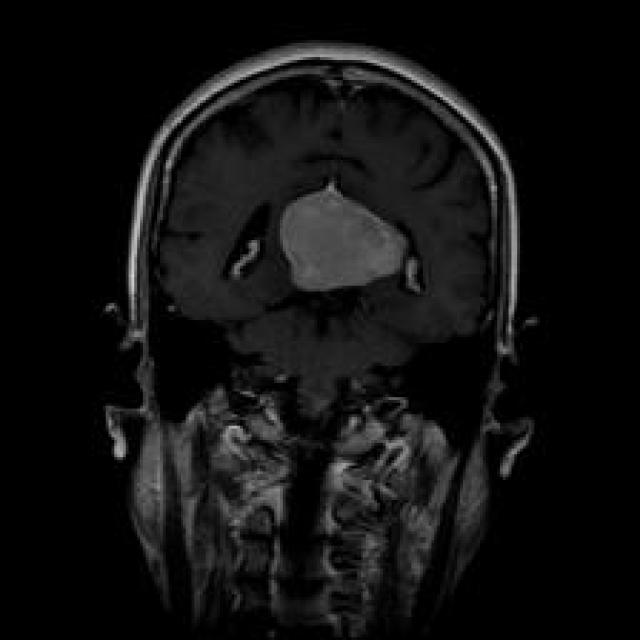meningioma_tumor: (269, 171, 422, 303)
